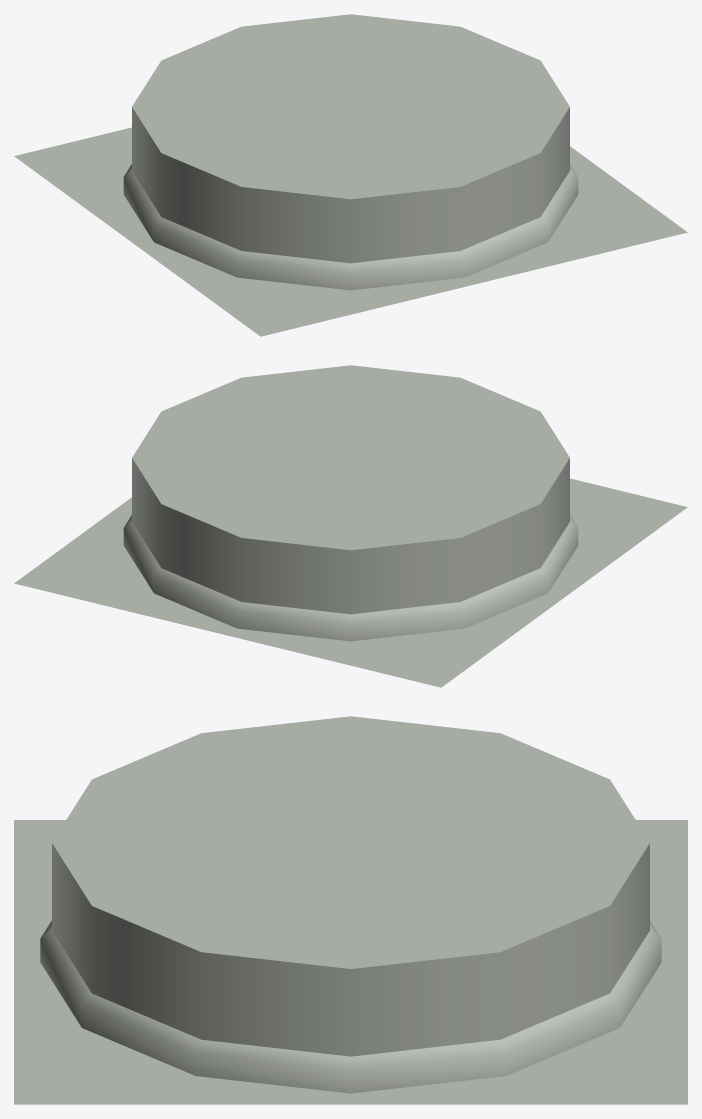
File: Button_2.FBX
3 renders of one model, top to bottom at view 1: azimuth 30°, elevation 25°; view 2: azimuth 150°, elevation 25°; view 3: azimuth 270°, elevation 25°, orthographic. The views are drawn at different scales.
Parts seen in each view (by area): view 1: Plane038; view 2: Plane038; view 3: Plane038.
Part boxes in pixels (left/top/right/bottom): Plane038: left=14, top=14, right=687, bottom=336; Plane038: left=14, top=365, right=687, bottom=687; Plane038: left=14, top=716, right=687, bottom=1104.
Bounding box in the file's own units: 7.6 × 1.59 × 7.6.
